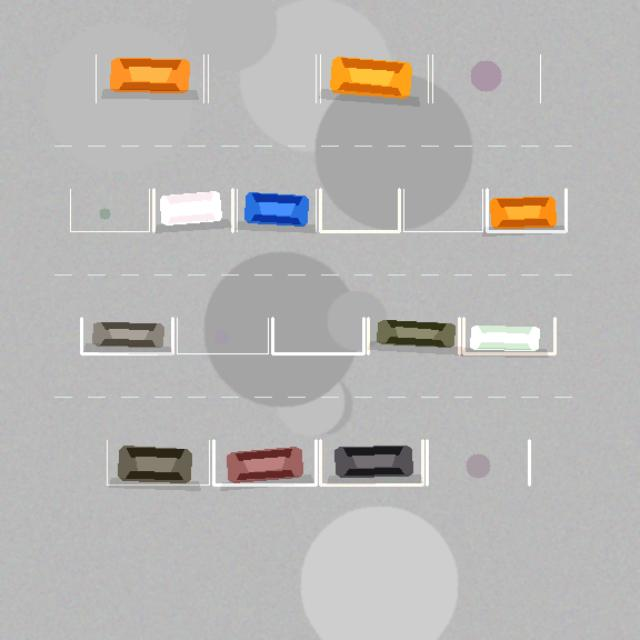space-empty: (208, 54, 316, 102), (432, 54, 540, 102), (427, 440, 529, 484), (70, 189, 149, 231), (320, 189, 399, 231), (403, 189, 482, 231), (177, 318, 268, 353), (272, 318, 363, 353)
space-occupied: (320, 54, 428, 102), (96, 54, 203, 102), (213, 440, 316, 484), (107, 440, 209, 484), (320, 440, 422, 484), (153, 189, 232, 231), (237, 189, 316, 231), (487, 189, 566, 231), (81, 318, 172, 353), (368, 318, 459, 353), (463, 318, 554, 353)
